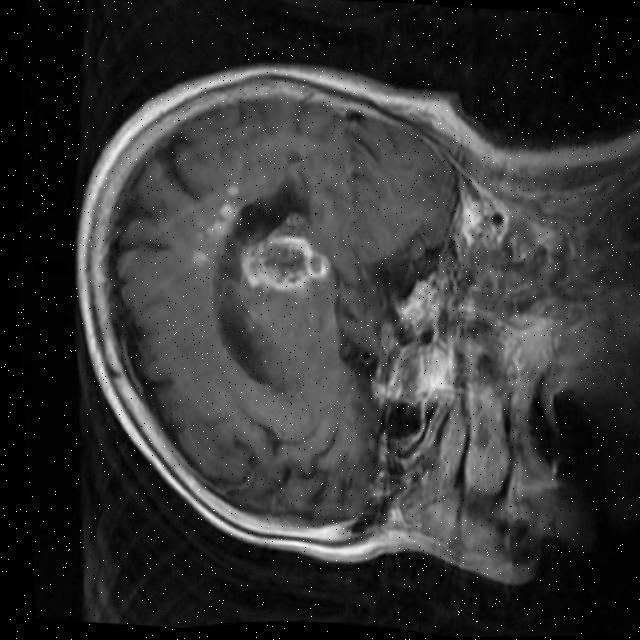Glioma: (235, 232, 333, 294), (187, 179, 244, 268)
